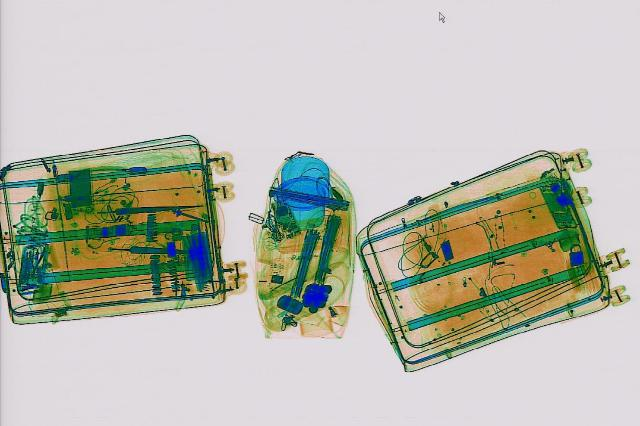Pliers: (22, 242, 46, 275)
